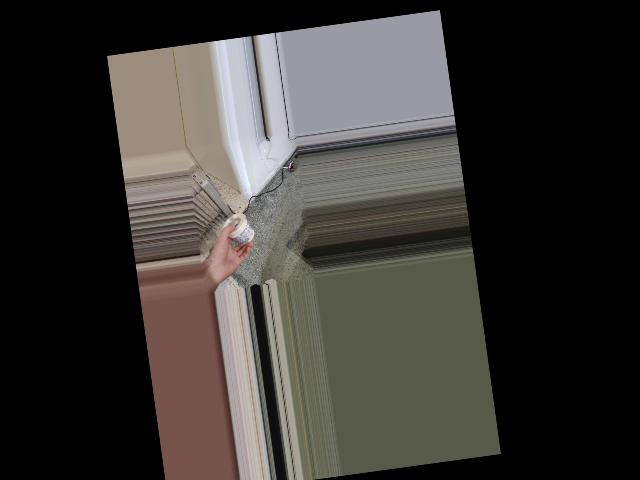cotage: (222, 212, 256, 249)
